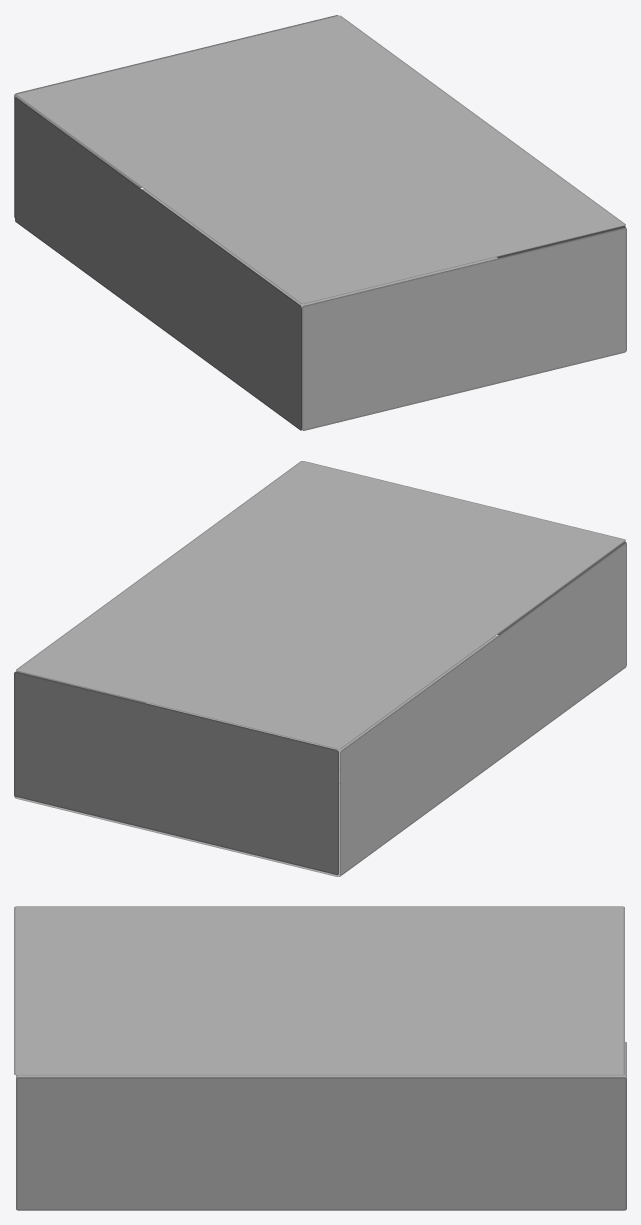
The model's file is pz_wall_outlet_single.obj.
3 renders of one model, top to bottom at view 1: azimuth 30°, elevation 25°; view 2: azimuth 150°, elevation 25°; view 3: azimuth 270°, elevation 25°, orthographic. The views are drawn at different scales.
Visible parts, largest first — view 1: pz_wall_outlet_single; view 2: pz_wall_outlet_single; view 3: pz_wall_outlet_single.
Boxes of the visible parts, x1,y1,x2,y2 form: pz_wall_outlet_single: [14, 15, 626, 430]; pz_wall_outlet_single: [14, 461, 626, 876]; pz_wall_outlet_single: [14, 906, 626, 1210].
Size of the model in its own units: 0.075 by 0.029 by 0.115.
Materials: 1 (1 with a texture image).
